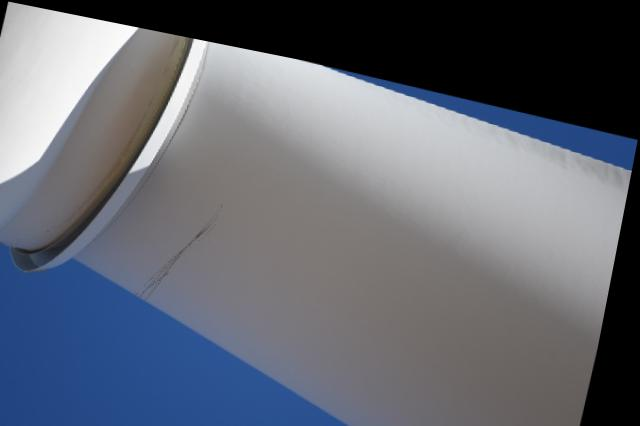damage: (145, 188, 228, 301)
